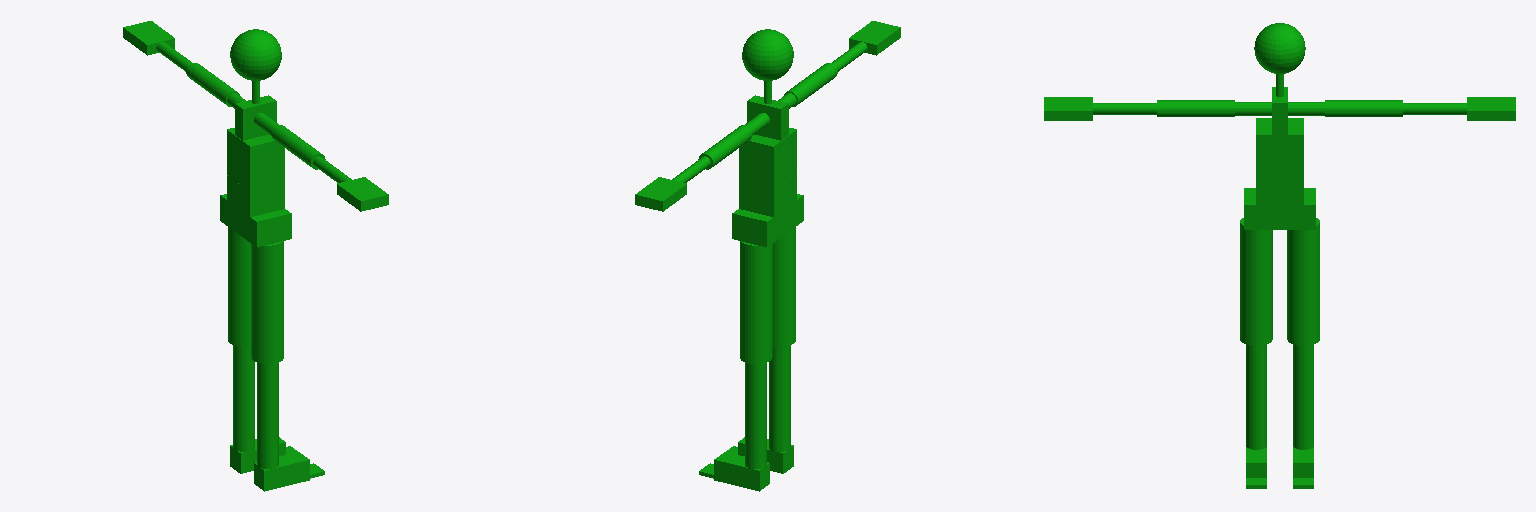
--- What the picture shows (computed from the rendered views, not written in the file) ---
The picture shows the robot from 3 angles, left to right: view 1: azimuth 30°, elevation 25°; view 2: azimuth 150°, elevation 25°; view 3: azimuth 270°, elevation 25°; orthographic projection.
Model humanoid with 51 links and 50 joints (50 fixed), rooted at Pelvis, posed all joints at 0.
Links seen in each view (by area): view 1: RightUpperLeg, LeftUpperLeg, RightLowerLeg, LeftLowerLeg, Head, Pelvis, T12, L5, RightFoot, L3, T8, RightHand (+4 smaller); view 2: LeftUpperLeg, RightUpperLeg, LeftLowerLeg, RightLowerLeg, Head, Pelvis, T12, L5, LeftFoot, L3, T8, LeftHand (+4 smaller); view 3: RightUpperLeg, LeftUpperLeg, Pelvis, RightLowerLeg, LeftLowerLeg, Head, T12, RightUpperArm, LeftUpperArm, L5, RightHand, LeftHand (+6 smaller).
Boxes of the visible links, left/top/right/bottom form: RightUpperLeg: left=251, top=241, right=283, bottom=363; LeftUpperLeg: left=228, top=227, right=250, bottom=346; RightLowerLeg: left=257, top=363, right=278, bottom=468; LeftLowerLeg: left=233, top=345, right=254, bottom=451; Head: left=230, top=29, right=281, bottom=80; Pelvis: left=220, top=194, right=291, bottom=247; T12: left=227, top=128, right=284, bottom=169; L5: left=227, top=175, right=284, bottom=216; RightFoot: left=254, top=452, right=309, bottom=491; L3: left=227, top=153, right=284, bottom=191; T8: left=235, top=95, right=276, bottom=140; RightHand: left=337, top=177, right=388, bottom=211; LeftUpperLeg: left=740, top=241, right=772, bottom=363; RightUpperLeg: left=773, top=227, right=795, bottom=346; LeftLowerLeg: left=745, top=363, right=766, bottom=468; RightLowerLeg: left=769, top=345, right=790, bottom=451; Head: left=742, top=29, right=793, bottom=80; Pelvis: left=732, top=194, right=803, bottom=247; T12: left=739, top=128, right=796, bottom=169; L5: left=739, top=175, right=796, bottom=216; LeftFoot: left=714, top=452, right=769, bottom=491; L3: left=739, top=153, right=796, bottom=191; T8: left=747, top=95, right=788, bottom=140; LeftHand: left=635, top=177, right=686, bottom=211; RightUpperLeg: left=1240, top=218, right=1272, bottom=345; LeftUpperLeg: left=1287, top=218, right=1319, bottom=345; Pelvis: left=1244, top=188, right=1315, bottom=229; RightLowerLeg: left=1246, top=345, right=1266, bottom=449; LeftLowerLeg: left=1293, top=345, right=1313, bottom=449; Head: left=1254, top=23, right=1305, bottom=73; T12: left=1256, top=118, right=1303, bottom=156; RightUpperArm: left=1157, top=100, right=1234, bottom=116; LeftUpperArm: left=1325, top=100, right=1402, bottom=116; L5: left=1256, top=180, right=1303, bottom=204; RightHand: left=1044, top=97, right=1092, bottom=120; LeftHand: left=1467, top=97, right=1515, bottom=120.
Size in the robot's own frame: 0.2938 by 1.63 by 1.69 metres.
Geometry: primitives only (box / cylinder / sphere), no mesh files.

The robot description file, URDF, robot "humanoid":
<robot name="humanoid">

<material name="color">
    <color rgba="0.08235294117647059 0.6901960784313725 0.10196078431372549 1.0" />
</material>

<!--To open this model with Gazebo replace the null masses, inertias and dimensions of the 'fake links f1 and f2'-->
    <!--LINKS-->
	<!--Link base (1)-->
	<link name="Pelvis">
        <inertial>
            <mass value="0.04976"/>
			<!--COM origin wrt pHipOrigin-->
            <origin xyz="0           0    0.049743" rpy="0 0 0" />
            <inertia ixx="0.029678" iyy="0.011854" izz="0.033653" ixy="0" ixz="0" iyz="0"/>
        </inertial>

        <visual>
			<!--box origin wrt pHipOrigin-->
            <origin xyz="0           0    0.049743" rpy="0 0 0" />
            <geometry>
                <box size="0.13815     0.24914    0.097469"/>
            </geometry>
            <material name="color"/>
        </visual>

        <collision>
			<!--box origin wrt pHipOrigin-->
            <origin xyz="0           0    0.049743" rpy="0 0 0" />
            <geometry>
                <box size="0.13815     0.24914    0.097469"/>
            </geometry>
        </collision>

    </link>
    <!--Chain from (2) to (7)-->
	<link name="L5_f1">
        <inertial>
            <mass value="0"/>
            <origin xyz="0 0 0" rpy="0 0 0" />
            <inertia ixx="0" iyy="0" izz="0" ixy="0" ixz="0" iyz="0"/>
        </inertial>
    </link>
	<link name="L5">
        <inertial>
            <mass value="0.063444"/>
			<!--COM origin wrt jL5S1-->
            <origin xyz="0           0    0.047552" rpy="0 0 0" />
            <inertia ixx="0.018868" iyy="0.014872" izz="0.024177" ixy="0" ixz="0" iyz="0"/>
        </inertial>

        <visual>
			<!--box origin origin wrt jL5S1-->
            <origin xyz="0           0    0.047552" rpy="0 0 0" />
            <geometry>
                <box size="0.13815     0.16323    0.095104"/>
            </geometry>
            <material name="color"/>
        </visual>

        <collision>
			<!--box origin origin wrt jL5S1-->
            <origin xyz="0           0    0.047552" rpy="0 0 0" />
            <geometry>
                <box size="0.13815     0.16323    0.095104"/>
            </geometry>
        </collision>
    </link>
	<link name="L3_f1">
        <inertial>
            <mass value="0"/>
            <origin xyz="0 0 0" rpy="0 0 0" />
            <inertia ixx="0" iyy="0" izz="0" ixy="0" ixz="0" iyz="0"/>
        </inertial>
    </link>
	<link name="L3">
        <inertial>
            <mass value="0.063444"/>
			<!--COM origin wrt jL4L3-->
            <origin xyz="0           0    0.042958" rpy="0 0 0" />
            <inertia ixx="0.017989" iyy="0.013993" izz="0.024177" ixy="0" ixz="0" iyz="0"/>
        </inertial>

        <visual>
			<!--box origin origin wrt jL4L3-->
            <origin xyz="0           0    0.042958" rpy="0 0 0" />
            <geometry>
                <box size="0.13815     0.16323    0.085916"/>
            </geometry>
            <material name="color"/>
        </visual>

        <collision>
			<!--box origin origin wrt jL4L3-->
            <origin xyz="0           0    0.042958" rpy="0 0 0" />
            <geometry>
                <box size="0.13815     0.16323    0.085916"/>
            </geometry>
        </collision>
    </link>
	<link name="T12_f1">
        <inertial>
            <mass value="0"/>
            <origin xyz="0 0 0" rpy="0 0 0" />
            <inertia ixx="0" iyy="0" izz="0" ixy="0" ixz="0" iyz="0"/>
        </inertial>
    </link>
	<link name="T12">
        <inertial>
            <mass value="0.063444"/>
			<!--COM origin wrt jL1T12-->
            <origin xyz="0           0    0.042958" rpy="0 0 0" />
            <inertia ixx="0.017989" iyy="0.013993" izz="0.024177" ixy="0" ixz="0" iyz="0"/>
        </inertial>

        <visual>
			<!--box origin origin wrt jL1T12-->
            <origin xyz="0           0    0.042958" rpy="0 0 0" />
            <geometry>
                <box size="0.13815     0.16323    0.085916"/>
            </geometry>
            <material name="color"/>
        </visual>

        <collision>
			<!--box origin origin wrt jL1T12-->
            <origin xyz="0           0    0.042958" rpy="0 0 0" />
            <geometry>
                <box size="0.13815     0.16323    0.085916"/>
            </geometry>
        </collision>
    </link>
	<link name="T8_f1">
        <inertial>
            <mass value="0"/>
            <origin xyz="0 0 0" rpy="0 0 0" />
            <inertia ixx="0" iyy="0" izz="0" ixy="0" ixz="0" iyz="0"/>
        </inertial>
    </link>
	<link name="T8_f2">
        <inertial>
            <mass value="0"/>
            <origin xyz="0 0 0" rpy="0 0 0" />
            <inertia ixx="0" iyy="0" izz="0" ixy="0" ixz="0" iyz="0"/>
        </inertial>
    </link>
	<link name="T8">
        <inertial>
            <mass value="0.02488"/>
			<!--COM origin wrt jT9T8-->
            <origin xyz="0           0    0.059874" rpy="0 0 0" />
            <inertia ixx="0.0035473" iyy="0.0067278" izz="0.0043289" ixy="0" ixz="0" iyz="0"/>
        </inertial>

        <visual>
			<!--box origin wrt jT9T8-->
            <origin xyz="0           0    0.059874" rpy="0 0 0" />
            <geometry>
                <box size="0.13457    0.052626     0.11975"/>
            </geometry>
            <material name="color"/>
        </visual>

        <collision>
			<!--box origin wrt jT9T8-->
            <origin xyz="0           0    0.059874" rpy="0 0 0" />
            <geometry>
                <box size="0.13457    0.052626     0.11975"/>
            </geometry>
        </collision>

    </link>
	<link name="Neck_f1">
        <inertial>
            <mass value="0"/>
            <origin xyz="0 0 0" rpy="0 0 0" />
            <inertia ixx="0" iyy="0" izz="0" ixy="0" ixz="0" iyz="0"/>
        </inertial>
    </link>
	<link name="Neck_f2">
        <inertial>
            <mass value="0"/>
            <origin xyz="0 0 0" rpy="0 0 0" />
            <inertia ixx="0" iyy="0" izz="0" ixy="0" ixz="0" iyz="0"/>
        </inertial>
    </link>
	<link name="Neck">
        <inertial>
            <mass value="0.007464"/>
			<!--COM origin wrt jT1C7-->
            <origin xyz="0           0    0.044626" rpy="0 0 0" />
            <inertia ixx="0.0006461" iyy="0.0006461" izz="0.00030124" ixy="0" ixz="0" iyz="0"/>
        </inertial>

        <visual>
			<!--box origin wrt jT1C7-->
            <origin xyz="0           0    0.044626" rpy="0 0 0" />
            <geometry>
		<cylinder length="0.089252" radius="0.014205"/>
            </geometry>
            <material name="color"/>
        </visual>

        <collision>
			<!--box origin wrt jT1C7-->
            <origin xyz="0           0    0.044626" rpy="0 0 0" />
            <geometry>
                <cylinder length="0.089252" radius="0.014205"/>
            </geometry>
        </collision>
    </link>
	<link name="Head_f1">
        <inertial>
            <mass value="0"/>
            <origin xyz="0 0 0" rpy="0 0 0" />
            <inertia ixx="0" iyy="0" izz="0" ixy="0" ixz="0" iyz="0"/>
        </inertial>
    </link>
	<link name="Head">
        <inertial>
            <mass value="0.022392"/>
			<!--COM origin wrt jC1Head-->
            <origin xyz="0           0    0.089005" rpy="0 0 0" />
            <inertia ixx="0.0070955" iyy="0.0070955" izz="0.0070955" ixy="0" ixz="0" iyz="0"/>
        </inertial>

        <visual>
			<!--boc origin wrt jC1Head-->
            <origin xyz="0           0    0.089005" rpy="0 0 0" />
            <geometry>
                <sphere radius="0.089005"/>
            </geometry>
            <material name="color"/>
        </visual>

        <collision>
			<!--box origin wrt jC1Head-->
            <origin xyz="0           0    0.089005" rpy="0 0 0" />
            <geometry>
                <sphere radius="0.089005"/>
            </geometry>
        </collision>

    </link>
	<!--Chain from (8) to (11)-->
	<link name="RightShoulder">
        <inertial>
            <mass value="0.019282"/>
			<!--COM origin wrt jRightC7Shoulder-->
            <origin xyz="0   -0.065233           0" rpy="0 0 0" />
            <inertia ixx="0.0030029" iyy="0.00053578" izz="0.0030029" ixy="0" ixz="0" iyz="0"/>
        </inertial>

        <visual>
			<!--box origin wrt jRightC7Shoulder. RPY rotated of pi/2.-->
            <origin xyz="0   -0.065233           0" rpy="1.5708 0 0" />
            <geometry>
                <cylinder length="0.13047" radius="0.023574"/>
            </geometry>
            <material name="color"/>
        </visual>

        <collision>
			<!--box origin wrt jRightC7Shoulder. RPY rotated of pi/2.-->
            <origin xyz="0   -0.065233           0" rpy="1.5708 0 0" />
            <geometry>
                <cylinder length="0.13047" radius="0.023574"/>
            </geometry>
        </collision>

    </link>
	<link name="RightUpperArm_f1">
        <inertial>
            <mass value="0"/>
            <origin xyz="0 0 0" rpy="0 0 0" />
            <inertia ixx="0" iyy="0" izz="0" ixy="0" ixz="0" iyz="0"/>
        </inertial>
    </link>
	<link name="RightUpperArm_f2">
        <inertial>
            <mass value="0"/>
            <origin xyz="0 0 0" rpy="0 0 0" />
            <inertia ixx="0" iyy="0" izz="0" ixy="0" ixz="0" iyz="0"/>
        </inertial>
    </link>
    <link name="RightUpperArm">
        <inertial>
            <mass value="0.01866"/>
			<!--COM origin wrt jRightShoulder-->
            <origin xyz="0    -0.13497           0" rpy="0 0 0" />
            <inertia ixx="0.011736" iyy="0.00080917" izz="0.011736" ixy="0" ixz="0" iyz="0"/>
        </inertial>

        <visual>
			<!--box origin wrt jRightShoulder. RPY rotated of pi/2.-->
            <origin xyz="0    -0.13497           0" rpy="1.5708 0 0" />
            <geometry>
                <cylinder length="0.26994" radius="0.029449"/>
            </geometry>
            <material name="color"/>
        </visual>

        <collision>
			<!--box origin wrt jRightShoulder. RPY rotated of pi/2.-->
            <origin xyz="0    -0.13497           0" rpy="1.5708 0 0" />
            <geometry>
                <cylinder length="0.26994" radius="0.029449"/>
            </geometry>
        </collision>

    </link>
	<link name="RightForeArm_f1">
        <inertial>
            <mass value="0"/>
            <origin xyz="0 0 0" rpy="0 0 0" />
            <inertia ixx="0" iyy="0" izz="0" ixy="0" ixz="0" iyz="0"/>
        </inertial>
    </link>
	<link name="RightForeArm">
        <inertial>
            <mass value="0.01244"/>
			<!--COM origin wrt jRightElbow-->
            <origin xyz="0    -0.11124           0" rpy="0 0 0" />
            <inertia ixx="0.0052508" iyy="0.00023975" izz="0.0052508" ixy="0" ixz="0" iyz="0"/>
        </inertial>

        <visual>
			<!--box origin wrt jRightElbow. RPY rotated of pi/2.-->
            <origin xyz="0    -0.11124           0" rpy="1.5708 0 0" />
            <geometry>
                <cylinder length="0.22247" radius="0.019633"/>
            </geometry>
            <material name="color"/>
        </visual>

        <collision>
			<!--box origin wrt jRightElbow. RPY rotated of pi/2.-->
            <origin xyz="0    -0.11124           0" rpy="1.5708 0 0" />
            <geometry>
                <cylinder length="0.22247" radius="0.019633"/>
            </geometry>
        </collision>

    </link>
	<link name="RightHand_f1">
        <inertial>
            <mass value="0"/>
            <origin xyz="0 0 0" rpy="0 0 0" />
            <inertia ixx="0" iyy="0" izz="0" ixy="0" ixz="0" iyz="0"/>
        </inertial>
    </link>
	<link name="RightHand">
        <inertial>
            <mass value="0.003732"/>
			<!--COM origin wrt jRightWrist-->
            <origin xyz="0   -0.083588           0" rpy="0 0 0" />
            <inertia ixx="0.00091713" iyy="0.00043425" izz="0.0012555" ixy="0" ixz="0" iyz="0"/>
        </inertial>

        <visual>
			<!--box origin wrt jRightWrist-->
            <origin xyz="0   -0.083588           0" rpy="0 0 0" />
            <geometry>
                <box size="0.11145     0.16718    0.039266"/>
            </geometry>
            <material name="color"/>
        </visual>

        <collision>
			<!--box origin wrt jRightWrist-->
            <origin xyz="0   -0.083588           0" rpy="0 0 0" />
            <geometry>
                <box size="0.11145     0.16718    0.039266"/>
            </geometry>
        </collision>

    </link>
    <link name="RightHandCOM">
        <inertial>
            <mass value="0.0000001"/>
            <origin xyz="0 0 0" rpy="0 0 0" />
            <inertia ixx="0" iyy="0" izz="0" ixy="0" ixz="0" iyz="0"/>
        </inertial>
        <visual>
            <!--box origin wrt jRightWrist-->
            <origin xyz="0   0           0" rpy="0 0 0" />
            <geometry>
                <box size="0     0    0"/>
            </geometry>
            <material name="color"/>
        </visual>
    </link>
	<!--Chain from (12) to (15)-->
	<link name="LeftShoulder">
        <inertial>
            <mass value="0.019282"/>
			<!--COM origin wrt jLeftC7Shoulder-->
            <origin xyz="0    0.065233           0" rpy="0 0 0" />
            <inertia ixx="0.0030029" iyy="0.00053578" izz="0.0030029" ixy="0" ixz="0" iyz="0"/>
        </inertial>

        <visual>
			<!--box origin wrt jLeftC7Shoulder. RPY rotated of pi/2.-->
            <origin xyz="0    0.065233           0" rpy="1.5708 0 0" />
            <geometry>
                <cylinder length="0.13047" radius="0.023574"/>
            </geometry>
            <material name="color"/>
        </visual>

        <collision>
			<!--box origin wrt jLeftC7Shoulder. RPY rotated of pi/2.-->
            <origin xyz="0    0.065233           0" rpy="1.5708 0 0" />
            <geometry>
                <cylinder length="0.13047" radius="0.023574"/>
            </geometry>
        </collision>

    </link>
	<link name="LeftUpperArm_f1">
        <inertial>
            <mass value="0"/>
            <origin xyz="0 0 0" rpy="0 0 0" />
            <inertia ixx="0" iyy="0" izz="0" ixy="0" ixz="0" iyz="0"/>
        </inertial>
    </link>
	<link name="LeftUpperArm_f2">
        <inertial>
            <mass value="0"/>
            <origin xyz="0 0 0" rpy="0 0 0" />
            <inertia ixx="0" iyy="0" izz="0" ixy="0" ixz="0" iyz="0"/>
        </inertial>
    </link>
	<link name="LeftUpperArm">
        <inertial>
            <mass value="0.01866"/>
			<!--COM origin wrt jLeftShoulder-->
            <origin xyz="0     0.13497           0" rpy="0 0 0" />
            <inertia ixx="0.011736" iyy="0.00080917" izz="0.011736" ixy="0" ixz="0" iyz="0"/>
        </inertial>

        <visual>
			<!--box origin wrt jLeftShoulder. RPY rotated of pi/2.-->
            <origin xyz="0     0.13497           0" rpy="1.5708 0 0" />
            <geometry>
                <cylinder length="0.26994" radius="0.029449"/>
            </geometry>
            <material name="color"/>
        </visual>

        <collision>
			<!--box origin wrt jLeftShoulder. RPY rotated of pi/2.-->
            <origin xyz="0     0.13497           0" rpy="1.5708 0 0" />
            <geometry>
                <cylinder length="0.26994" radius="0.029449"/>
            </geometry>
        </collision>

    </link>
	<link name="LeftForeArm_f1">
        <inertial>
            <mass value="0"/>
            <origin xyz="0 0 0" rpy="0 0 0" />
            <inertia ixx="0" iyy="0" izz="0" ixy="0" ixz="0" iyz="0"/>
        </inertial>
    </link>
	<link name="LeftForeArm">
        <inertial>
            <mass value="0.01244"/>
			<!--COM origin wrt jLeftElbow-->
            <origin xyz="0     0.11124           0" rpy="0 0 0" />
            <inertia ixx="0.0052508" iyy="0.00023975" izz="0.0052508" ixy="0" ixz="0" iyz="0"/>
        </inertial>

        <visual>
			<!--box origin wrt jLeftElbow. RPY rotated of pi/2.-->
            <origin xyz="0     0.11124           0" rpy="1.5708 0 0" />
            <geometry>
                <cylinder length="0.22247" radius="0.019633"/>
            </geometry>
            <material name="color"/>
        </visual>

        <collision>
			<!--box origin wrt jLeftElbow. RPY rotated of pi/2.-->
            <origin xyz="0     0.11124           0" rpy="1.5708 0 0" />
            <geometry>
                <cylinder length="0.22247" radius="0.019633"/>
            </geometry>
        </collision>

    </link>
	<link name="LeftHand_f1">
        <inertial>
            <mass value="0"/>
            <origin xyz="0 0 0" rpy="0 0 0" />
            <inertia ixx="0" iyy="0" izz="0" ixy="0" ixz="0" iyz="0"/>
        </inertial>
    </link>
	<link name="LeftHand">
        <inertial>
            <mass value="0.003732"/>
			<!--COM origin wrt jLeftWrist-->
            <origin xyz="0    0.083588           0" rpy="0 0 0" />
            <inertia ixx="0.00091713" iyy="0.00043425" izz="0.0012555" ixy="0" ixz="0" iyz="0"/>
        </inertial>

        <visual>
			<!--COM origin wrt jLeftWrist-->
            <origin xyz="0    0.083588           0" rpy="0 0 0" />
            <geometry>
                <box size="0.11145     0.16718    0.039266"/>
            </geometry>
            <material name="color"/>
        </visual>

        <collision>
			<!--COM origin wrt jLeftWrist-->
            <origin xyz="0    0.083588           0" rpy="0 0 0" />
            <geometry>
                <box size="0.11145     0.16718    0.039266"/>
            </geometry>
        </collision>

    </link>
    <link name="LeftHandCOM">
        <inertial>
            <mass value="0.0000001"/>
            <origin xyz="0 0 0" rpy="0 0 0" />
            <inertia ixx="0" iyy="0" izz="0" ixy="0" ixz="0" iyz="0"/>
        </inertial>
        <visual>
            <!--COM origin wrt jLeftWrist-->
            <origin xyz="0    0           0" rpy="0 0 0" />
            <geometry>
                <box size="0     0    0"/>
            </geometry>
            <material name="color"/>
        </visual>
    </link>
	<!--Chain from (16) to (19)-->
	<link name="RightUpperLeg_f1">
        <inertial>
            <mass value="0"/>
            <origin xyz="0 0 0" rpy="0 0 0" />
            <inertia ixx="0" iyy="0" izz="0" ixy="0" ixz="0" iyz="0"/>
        </inertial>
    </link>
	<link name="RightUpperLeg_f2">
        <inertial>
            <mass value="0"/>
            <origin xyz="0 0 0" rpy="0 0 0" />
            <inertia ixx="0" iyy="0" izz="0" ixy="0" ixz="0" iyz="0"/>
        </inertial>
    </link>
    <link name="RightUpperLeg">
        <inertial>
            <mass value="0.07775"/>
			<!--COM origin wrt jRightHip-->
            <origin xyz="0           0    -0.22449" rpy="0 0 0" />
            <inertia ixx="0.13681" iyy="0.13681" izz="0.01241" ixy="0" ixz="0" iyz="0"/>
        </inertial>

        <visual>
			<!--box origin wrt jRightHip-->
            <origin xyz="0           0    -0.22449" rpy="0 0 0" />
            <geometry>
                <cylinder length="0.44898" radius="0.0565"/>
            </geometry>
            <material name="color"/>
        </visual>

        <collision>
			<!--box origin wrt jRightHip-->
            <origin xyz="0           0    -0.22449" rpy="0 0 0" />
            <geometry>
                <cylinder length="0.44898" radius="0.0565"/>
            </geometry>
        </collision>

    </link>
	<link name="RightLowerLeg_f1">
        <inertial>
            <mass value="0"/>
            <origin xyz="0 0 0" rpy="0 0 0" />
            <inertia ixx="0" iyy="0" izz="0" ixy="0" ixz="0" iyz="0"/>
        </inertial>
    </link>
    <link name="RightLowerLeg">
        <inertial>
            <mass value="0.022703"/>
			<!--COM origin wrt jRightKnee-->
            <origin xyz="0           0    -0.20304" rpy="0 0 0" />
            <inertia ixx="0.031992" iyy="0.031992" izz="0.0015867" ixy="0" ixz="0" iyz="0"/>
        </inertial>

        <visual>
			<!--box origin wrt jRightKnee-->
            <origin xyz="0           0    -0.20304" rpy="0 0 0" />
            <geometry>
                <cylinder length="0.40608" radius="0.037388"/>
            </geometry>
            <material name="color"/>
        </visual>

        <collision>
			<!--box origin wrt jRightKnee-->
            <origin xyz="0           0    -0.20304" rpy="0 0 0" />
            <geometry>
                <cylinder length="0.40608" radius="0.037388"/>
            </geometry>
        </collision>

    </link>
	<link name="RightFoot_f1">
        <inertial>
            <mass value="0"/>
            <origin xyz="0 0 0" rpy="0 0 0" />
            <inertia ixx="0" iyy="0" izz="0" ixy="0" ixz="0" iyz="0"/>
        </inertial>
    </link>
	<link name="RightFoot_f2">
        <inertial>
            <mass value="0"/>
            <origin xyz="0 0 0" rpy="0 0 0" />
            <inertia ixx="0" iyy="0" izz="0" ixy="0" ixz="0" iyz="0"/>
        </inertial>
    </link>
    <link name="RightFoot">
        <inertial>
            <mass value="0.008086"/>
			<!--COM origin wrt jRightAnkle-->
            <origin xyz="0.054652           0   -0.039254" rpy="0 0 0" />
            <inertia ixx="0.00079209" iyy="0.0025944" izz="0.0025558" ixy="0" ixz="0" iyz="0"/>
        </inertial>

        <visual>
			<!--box origin wrt jRightAnkle-->
	    	<origin xyz="0.054652           0   -0.039254" rpy="0 0 0" />
            <geometry>
                <box size="0.17983    0.074775    0.078509"/>
            </geometry>
            <material name="color"/>
        </visual>

        <collision>
			<!--box origin wrt jRightAnkle-->
		    <origin xyz="0.054652           0   -0.039254" rpy="0 0 0" />
	            <geometry>
	                <box size="0.17983    0.074775    0.078509"/>
	            </geometry>
        </collision>

    </link>
    <link name="RightToe">
        <inertial>
            <mass value="0.000933"/>
			<!--COM origin wrt jRightBallFoot-->
            <origin xyz="0.030086           0           0" rpy="0 0 0" />
            <inertia ixx="4.5038e-05" iyy="2.9717e-05" izz="7.1624e-05" ixy="0" ixz="0" iyz="0"/>
        </inertial>

        <visual>
			<!--box origin wrt jRightBallFoot-->
            <origin xyz="0.030086           0           0" rpy="0 0 0" />
            <geometry>
                <box size="0.060173    0.074775    0.014191"/>
            </geometry>
            <material name="color"/>
        </visual>

        <collision>
			<!--box origin wrt jRightBallFoot-->
            <origin xyz="0.030086           0           0" rpy="0 0 0" />
            <geometry>
                <box size="0.060173    0.074775    0.014191"/>
            </geometry>
        </collision>
    </link>
	<!--Chain from (20) to (23)-->
	<link name="LeftUpperLeg_f1">
        <inertial>
            <mass value="0"/>
            <origin xyz="0 0 0" rpy="0 0 0" />
            <inertia ixx="0" iyy="0" izz="0" ixy="0" ixz="0" iyz="0"/>
        </inertial>
    </link>
	<link name="LeftUpperLeg_f2">
        <inertial>
            <mass value="0"/>
            <origin xyz="0 0 0" rpy="0 0 0" />
            <inertia ixx="0" iyy="0" izz="0" ixy="0" ixz="0" iyz="0"/>
        </inertial>
    </link>
    <link name="LeftUpperLeg">
        <inertial>
            <mass value="0.07775"/>
			<!--COM origin wrt jLeftHip-->
            <origin xyz="0           0    -0.22449" rpy="0 0 0" />
            <inertia ixx="0.13681" iyy="0.13681" izz="0.01241" ixy="0" ixz="0" iyz="0"/>
        </inertial>

        <visual>
			<!--box origin wrt jLeftHip-->
            <origin xyz="0           0    -0.22449" rpy="0 0 0" />
            <geometry>
                <cylinder length="0.44898" radius="0.0565"/>
            </geometry>
            <material name="color"/>
        </visual>

        <collision>
			<!--box origin wrt jLeftHip-->
            <origin xyz="0           0    -0.22449" rpy="0 0 0" />
            <geometry>
                <cylinder length="0.44898" radius="0.0565"/>
            </geometry>
        </collision>

    </link>
	<link name="LeftLowerLeg_f1">
        <inertial>
            <mass value="0"/>
            <origin xyz="0 0 0" rpy="0 0 0" />
            <inertia ixx="0" iyy="0" izz="0" ixy="0" ixz="0" iyz="0"/>
        </inertial>
    </link>
	<link name="LeftLowerLeg">
        <inertial>
            <mass value="0.022703"/>
			<!--COM origin wrt jLeftKnee-->
            <origin xyz="0           0    -0.20304" rpy="0 0 0" />
            <inertia ixx="0.031992" iyy="0.031992" izz="0.0015867" ixy="0" ixz="0" iyz="0"/>
        </inertial>

        <visual>
			<!--box origin wrt jLeftKnee-->
            <origin xyz="0           0    -0.20304" rpy="0 0 0" />
            <geometry>
		<cylinder length="0.40608" radius="0.037388"/>
            </geometry>
            <material name="color"/>
        </visual>

        <collision>
			<!--box origin wrt jLeftKnee-->
            <origin xyz="0           0    -0.20304" rpy="0 0 0" />
            <geometry>
		<cylinder length="0.40608" radius="0.037388"/>
            </geometry>
        </collision>

    </link>
	<link name="LeftFoot_f1">
        <inertial>
            <mass value="0"/>
            <origin xyz="0 0 0" rpy="0 0 0" />
            <inertia ixx="0" iyy="0" izz="0" ixy="0" ixz="0" iyz="0"/>
        </inertial>
    </link>
	<link name="LeftFoot_f2">
        <inertial>
            <mass value="0"/>
            <origin xyz="0 0 0" rpy="0 0 0" />
            <inertia ixx="0" iyy="0" izz="0" ixy="0" ixz="0" iyz="0"/>
        </inertial>
    </link>
    <link name="LeftFoot">
        <inertial>
            <mass value="0.008086"/>
			<!--COM origin wrt jLeftAnkle-->
            <origin xyz="0.054652           0   -0.039254" rpy="0 0 0" />
            <inertia ixx="0.00079209" iyy="0.0025944" izz="0.0025558" ixy="0" ixz="0" iyz="0"/>
        </inertial>

        <visual>
			<!--box origin wrt jLeftAnkle-->
	   	 	<origin xyz="0.054652           0   -0.039254" rpy="0 0 0" />
            <geometry>
                <box size="0.17983    0.074775    0.078509"/>
            </geometry>
            <material name="color"/>
        </visual>

        <collision>
			<!--box origin wrt jLeftAnkle-->
		    <origin xyz="0.054652           0   -0.039254" rpy="0 0 0" />
	            <geometry>
	                <box size="0.17983    0.074775    0.078509"/>
	            </geometry>
        </collision>

    </link>
	<link name="LeftToe">
        <inertial>
            <mass value="0.000933"/>
			<!--COM origin wrt jLeftBallFoot-->
            <origin xyz="0.030086           0           0" rpy="0 0 0" />
            <inertia ixx="4.5038e-05" iyy="2.9717e-05" izz="7.1624e-05" ixy="0" ixz="0" iyz="0"/>
        </inertial>

        <visual>
			<!--box origin wrt jLeftBallFoot-->
            <origin xyz="0.030086           0           0" rpy="0 0 0" />
            <geometry>
                <box size="0.060173    0.074775    0.014191"/>
            </geometry>
            <material name="color"/>
        </visual>

        <collision>
			<!--box origin wrt jLeftBallFoot-->
            <origin xyz="0.030086           0           0" rpy="0 0 0" />
            <geometry>
                <box size="0.060173    0.074775    0.014191"/>
            </geometry>
        </collision>
    </link>


	<!--JOINTS-->
	<!--Chain from (2) to (7)-->
	<joint name="jL5S1_rotx" type="fixed">
        <origin xyz="-0.000206           0    0.098478" rpy="0 0 0"/>
        <parent link="Pelvis"/>
        <child link="L5_f1"/>
        <dynamics damping="0.1" friction="0.0"/>
        <limit effort="30" velocity="1.0" lower="-0.610865" upper="0.610865" />
        <axis xyz="1 0 0" />
    </joint>
	<joint name="jL5S1_roty" type="fixed">
        <origin xyz="0 0 0" rpy="0 0 0"/>
        <parent link="L5_f1"/>
        <child link="L5"/>
        <dynamics damping="0.1" friction="0.0"/>
        <limit effort="30" velocity="1.0" lower="-0.523599" upper="1.309" />
        <axis xyz="0 1 0" />
    </joint>
	<joint name="jL4L3_rotx" type="fixed">
        <origin xyz="0.000374           0    0.095104" rpy="0 0 0"/>
        <parent link="L5"/>
        <child link="L3_f1"/>
        <dynamics damping="0.1" friction="0.0"/>
        <limit effort="30" velocity="1.0" lower="-0.610865" upper="0.610865" />
        <axis xyz="1 0 0" />
    </joint>
	<joint name="jL4L3_roty" type="fixed">
        <origin xyz="0 0 0" rpy="0 0 0"/>
        <parent link="L3_f1"/>
        <child link="L3"/>
        <dynamics damping="0.1" friction="0.0"/>
        <limit effort="30" velocity="1.0" lower="-0.523599" upper="1.309" />
        <axis xyz="0 1 0" />
    </joint>
	<joint name="jL1T12_rotx" type="fixed">
        <origin xyz="0           0    0.085916" rpy="0 0 0"/>
        <parent link="L3"/>
        <child link="T12_f1"/>
        <dynamics damping="0.1" friction="0.0"/>
        <limit effort="30" velocity="1.0" lower="-0.610865" upper="0.610865" />
        <axis xyz="1 0 0" />
    </joint>
	<joint name="jL1T12_roty" type="fixed">
        <origin xyz="0 0 0" rpy="0 0 0"/>
        <parent link="T12_f1"/>
        <child link="T12"/>
        <dynamics damping="0.1" friction="0.0"/>
        <limit effort="30" velocity="1.0" lower="-0.523599" upper="1.309" />
        <axis xyz="0 1 0" />
    </joint>
	<joint name="jT9T8_rotx" type="fixed">
        <origin xyz="0           0    0.085916" rpy="0 0 0"/>
        <parent link="T12"/>
        <child link="T8_f1"/>
        <dynamics damping="0.1" friction="0.0"/>
        <limit effort="30" velocity="1.0" lower="-0.349066" upper="0.349066" />
        <axis xyz="1 0 0" />
    </joint>
	<joint name="jT9T8_roty" type="fixed">
        <origin xyz="0 0 0" rpy="0 0 0"/>
        <parent link="T8_f1"/>
        <child link="T8_f2"/>
        <dynamics damping="0.1" friction="0.0"/>
        <limit effort="30" velocity="1.0" lower="-0.261799" upper="0.698132" />
        <axis xyz="0 1 0" />
    </joint>
    <joint name="jT9T8_rotz" type="fixed">
        <origin xyz="0 0 0" rpy="0 0 0"/>
        <parent link="T8_f2"/>
        <child link="T8"/>
        <dynamics damping="0.1" friction="0.0"/>
        <limit effort="30" velocity="1.0" lower="-0.610865" upper="0.610865" />
        <axis xyz="0 0 1" />
    </joint>
	<joint name="jT1C7_rotx" type="fixed">
        <origin xyz="0           0     0.11975" rpy="0 0 0"/>
        <parent link="T8"/>
        <child link="Neck_f1"/>
        <dynamics damping="0.1" friction="0.0"/>
        <limit effort="30" velocity="1.0" lower="-0.610865" upper="0.610865" />
        <axis xyz="1 0 0" />
    </joint>
	<joint name="jT1C7_roty" type="fixed">
        <origin xyz="0 0 0" rpy="0 0 0"/>
        <parent link="Neck_f1"/>
        <child link="Neck_f2"/>
        <dynamics damping="0.1" friction="0.0"/>
        <limit effort="30" velocity="1.0" lower="-0.959931" upper="1.5708" />
        <axis xyz="0 1 0" />
    </joint>
    <joint name="jT1C7_rotz" type="fixed">
        <origin xyz="0 0 0" rpy="0 0 0"/>
        <parent link="Neck_f2"/>
        <child link="Neck"/>
        <dynamics damping="0.1" friction="0.0"/>
        <limit effort="30" velocity="1.0" lower="-1.22173" upper="1.22173" />
        <axis xyz="0 0 1" />
    </joint>
	<joint name="jC1Head_rotx" type="fixed">
        <origin xyz="0.000152           0    0.089252" rpy="0 0 0"/>
        <parent link="Neck"/>
        <child link="Head_f1"/>
        <dynamics damping="0.1" friction="0.0"/>
        <limit effort="30" velocity="1.0" lower="-0.610865" upper="0.610865" />
        <axis xyz="1 0 0" />
    </joint>
	<joint name="jC1Head_roty" type="fixed">
        <origin xyz="0 0 0" rpy="0 0 0"/>
        <parent link="Head_f1"/>
        <child link="Head"/>
        <dynamics damping="0.1" friction="0.0"/>
        <limit effort="30" velocity="1.0" lower="-0.436332" upper="0.174533" />
        <axis xyz="0 1 0" />
    </joint>
	<!--Chain from (8) to (11)-->
	<joint name="jRightC7Shoulder_rotx" type="fixed">
        <origin xyz="0   -0.026313    0.067052" rpy="0 0 0"/>
        <parent link="T8"/>
        <child link="RightShoulder"/>
        <dynamics damping="0.1" friction="0.0"/>
        <limit effort="30" velocity="1.0" lower="-0.785398" upper="0.0872665" />
        <axis xyz="1 0 0" />
    </joint>
	<joint name="jRightShoulder_rotx" type="fixed">
        <origin xyz="0    -0.13047           0" rpy="0 0 0"/>
        <parent link="RightShoulder"/>
        <child link="RightUpperArm_f1"/>
        <dynamics damping="0.1" friction="0.0"/>
        <limit effort="30" velocity="1.0" lower="-2.35619" upper="1.5708" />
        <axis xyz="1 0 0" />
    </joint>
	<joint name="jRightShoulder_roty" type="fixed">
        <origin xyz="0 0 0" rpy="0 0 0"/>
        <parent link="RightUpperArm_f1"/>
        <child link="RightUpperArm_f2"/>
        <dynamics damping="0.1" friction="0.0"/>
        <limit effort="30" velocity="1.0" lower="-1.5708" upper="1.5708" />
        <axis xyz="0 1 0" />
    </joint>
    <joint name="jRightShoulder_rotz" type="fixed">
        <origin xyz="0 0 0" rpy="0 0 0"/>
        <parent link="RightUpperArm_f2"/>
        <child link="RightUpperArm"/>
        <dynamics damping="0.1" friction="0.0"/>
        <limit effort="30" velocity="1.0" lower="-0.785398" upper="3.14159" />
        <axis xyz="0 0 1" />
    </joint>
	<joint name="jRightElbow_roty" type="fixed">
        <origin xyz="0    -0.26994           0" rpy="0 0 0"/>
        <parent link="RightUpperArm"/>
        <child link="RightForeArm_f1"/>
        <dynamics damping="0.1" friction="0.0"/>
        <limit effort="30" velocity="1.0" lower="-1.5708" upper="1.48353" />
        <axis xyz="0 1 0" />
    </joint>
	<joint name="jRightElbow_rotz" type="fixed">
        <origin xyz="0 0 0" rpy="0 0 0"/>
        <parent link="RightForeArm_f1"/>
        <child link="RightForeArm"/>
        <dynamics damping="0.1" friction="0.0"/>
        <limit effort="30" velocity="1.0" lower="0" upper="2.53073" />
        <axis xyz="0 0 1" />
    </joint>
	<joint name="jRightWrist_rotx" type="fixed">
        <origin xyz="7.7e-05    -0.22247           0" rpy="0 0 0"/>
        <parent link="RightForeArm"/>
        <child link="RightHand_f1"/>
        <dynamics damping="0.1" friction="0.0"/>
        <limit effort="30" velocity="1.0" lower="-0.872665" upper="1.0472" />
        <axis xyz="1 0 0" />
    </joint>
	<joint name="jRightWrist_rotz" type="fixed">
        <origin xyz="0 0 0" rpy="0 0 0"/>
        <parent link="RightHand_f1"/>
        <child link="RightHand"/>
        <dynamics damping="0.1" friction="0.0"/>
        <limit effort="30" velocity="1.0" lower="-0.523599" upper="0.349066" />
        <axis xyz="0 0 1" />
    </joint>
    <joint name="jRightHandCOM" type="fixed">
        <origin xyz="0 -0.096206 0" rpy="0 0 0"/>
        <parent link="RightHand"/>
        <child link="RightHandCOM"/>
        <axis xyz="0 0 0" />
    </joint>
	<!--Chain from (12) to (15)-->
	<joint name="jLeftC7Shoulder_rotx" type="fixed">
        <origin xyz="0    0.026313    0.067052" rpy="0 0 0"/>
        <parent link="T8"/>
        <child link="LeftShoulder"/>
        <dynamics damping="0.1" friction="0.0"/>
        <limit effort="30" velocity="1.0" lower="-0.0872665" upper="0.785398" />
        <axis xyz="1 0 0" />
    </joint>
	<joint name="jLeftShoulder_rotx" type="fixed">
        <origin xyz="0     0.13047           0" rpy="0 0 0"/>
        <parent link="LeftShoulder"/>
        <child link="LeftUpperArm_f1"/>
        <dynamics damping="0.1" friction="0.0"/>
        <limit effort="30" velocity="1.0" lower="-1.5708" upper="2.35619" />
        <axis xyz="1 0 0" />
    </joint>
	<joint name="jLeftShoulder_roty" type="fixed">
        <origin xyz="0 0 0" rpy="0 0 0"/>
        <parent link="LeftUpperArm_f1"/>
        <child link="LeftUpperArm_f2"/>
        <dynamics damping="0.1" friction="0.0"/>
        <limit effort="30" velocity="1.0" lower="-1.5708" upper="1.5708" />
        <axis xyz="0 1 0" />
    </joint>
    <joint name="jLeftShoulder_rotz" type="fixed">
        <origin xyz="0 0 0" rpy="0 0 0"/>
        <parent link="LeftUpperArm_f2"/>
        <child link="LeftUpperArm"/>
        <dynamics damping="0.1" friction="0.0"/>
        <limit effort="30" velocity="1.0" lower="-3.14159" upper="0.785398" />
        <axis xyz="0 0 1" />
    </joint>
    <joint name="jLeftElbow_roty" type="fixed">
        <origin xyz="0     0.26994           0" rpy="0 0 0"/>
        <parent link="LeftUpperArm"/>
        <child link="LeftForeArm_f1"/>
        <dynamics damping="0.1" friction="0.0"/>
        <limit effort="30" velocity="1.0" lower="-1.5708" upper="1.48353" />
        <axis xyz="0 1 0" />
    </joint>
    <joint name="jLeftElbow_rotz" type="fixed">
        <origin xyz="0 0 0" rpy="0 0 0"/>
        <parent link="LeftForeArm_f1"/>
        <child link="LeftForeArm"/>
        <dynamics damping="0.1" friction="0.0"/>
        <limit effort="30" velocity="1.0" lower="-2.53073" upper="0" />
        <axis xyz="0 0 1" />
    </joint>
	<joint name="jLeftWrist_rotx" type="fixed">
        <origin xyz="7.7e-05     0.22247           0" rpy="0 0 0"/>
        <parent link="LeftForeArm"/>
        <child link="LeftHand_f1"/>
        <dynamics damping="0.1" friction="0.0"/>
        <limit effort="30" velocity="1.0" lower="-1.0472" upper="0.872665" />
        <axis xyz="1 0 0" />
    </joint>
	<joint name="jLeftWrist_rotz" type="fixed">
        <origin xyz="0 0 0" rpy="0 0 0"/>
        <parent link="LeftHand_f1"/>
        <child link="LeftHand"/>
        <dynamics damping="0.1" friction="0.0"/>
        <limit effort="30" velocity="1.0" lower="-0.349066" upper="0.523599" />
        <axis xyz="0 0 1" />
    </joint>
    <joint name="jLeftHandCOM" type="fixed">
        <origin xyz="0 0.096206 0" rpy="0 0 0"/>
        <parent link="LeftHand"/>
        <child link="LeftHandCOM"/>
        <axis xyz="0 0 0" />
    </joint>
	<!--Chain from (16) to (19)-->
	<joint name="jRightHip_rotx" type="fixed">
        <origin xyz="0.000103   -0.081614    0.001009" rpy="0 0 0"/>
        <parent link="Pelvis"/>
        <child link="RightUpperLeg_f1"/>
        <dynamics damping="0.1" friction="0.0"/>
        <limit effort="30" velocity="1.0" lower="-0.785398" upper="0.523599" />
        <axis xyz="1 0 0" />
    </joint>
	<joint name="jRightHip_roty" type="fixed">
        <origin xyz="0 0 0" rpy="0 0 0"/>
        <parent link="RightUpperLeg_f1"/>
        <child link="RightUpperLeg_f2"/>
        <dynamics damping="0.1" friction="0.0"/>
        <limit effort="30" velocity="1.0" lower="-2.0944" upper="0.261799" />
        <axis xyz="0 1 0" />
    </joint>
    <joint name="jRightHip_rotz" type="fixed">
        <origin xyz="0 0 0" rpy="0 0 0"/>
        <parent link="RightUpperLeg_f2"/>
        <child link="RightUpperLeg"/>
        <dynamics damping="0.1" friction="0.0"/>
        <limit effort="30" velocity="1.0" lower="-0.785398" upper="0.785398" />
        <axis xyz="0 0 1" />
    </joint>
	<joint name="jRightKnee_roty" type="fixed">
        <origin xyz="3.6e-05           0    -0.44898" rpy="0 0 0"/>
        <parent link="RightUpperLeg"/>
        <child link="RightLowerLeg_f1"/>
        <dynamics damping="0.1" friction="0.0"/>
        <limit effort="30" velocity="1.0" lower="0" upper="2.35619" />
        <axis xyz="0 1 0" />
    </joint>
	<joint name="jRightKnee_rotz" type="fixed">
        <origin xyz="0 0 0" rpy="0 0 0"/>
        <parent link="RightLowerLeg_f1"/>
        <child link="RightLowerLeg"/>
        <dynamics damping="0.1" friction="0.0"/>
        <limit effort="30" velocity="1.0" lower="-0.698132" upper="0.523599" />
        <axis xyz="0 0 1" />
    </joint>
	<joint name="jRightAnkle_rotx" type="fixed">
        <origin xyz="0.000205           0    -0.40608" rpy="0 0 0"/>
        <parent link="RightLowerLeg"/>
        <child link="RightFoot_f1"/>
        <dynamics damping="0.1" friction="0.0"/>
        <limit effort="30" velocity="1.0" lower="-0.610865" upper="0.785398" />
        <axis xyz="1 0 0" />
    </joint>
	<joint name="jRightAnkle_roty" type="fixed">
        <origin xyz="0 0 0" rpy="0 0 0"/>
        <parent link="RightFoot_f1"/>
        <child link="RightFoot_f2"/>
        <dynamics damping="0.1" friction="0.0"/>
        <limit effort="30" velocity="1.0" lower="-0.523599" upper="0.872665" />
        <axis xyz="0 1 0" />
    </joint>
    <joint name="jRightAnkle_rotz" type="fixed">
        <origin xyz="0 0 0" rpy="0 0 0"/>
        <parent link="RightFoot_f2"/>
        <child link="RightFoot"/>
        <dynamics damping="0.1" friction="0.0"/>
        <limit effort="30" velocity="1.0" lower="-0.436332" upper="0.872665" />
        <axis xyz="0 0 1" />
    </joint>
	<joint name="jRightBallFoot_roty" type="fixed">
        <origin xyz="0.14456           0   -0.064752" rpy="0 0 0"/>
        <parent link="RightFoot"/>
        <child link="RightToe"/>
        <dynamics damping="0.1" friction="0.0"/>
        <limit effort="30" velocity="1.0" lower="-0.174533" upper="1.5708" />
        <axis xyz="0 1 0" />
    </joint>
	<!--Chain from (20) to (23)-->
	<joint name="jLeftHip_rotx" type="fixed">
        <origin xyz="0.000103    0.081614    0.001009" rpy="0 0 0"/>
        <parent link="Pelvis"/>
        <child link="LeftUpperLeg_f1"/>
        <dynamics damping="0.1" friction="0.0"/>
        <limit effort="30" velocity="1.0" lower="-0.523599" upper="0.785398" />
        <axis xyz="1 0 0" />
    </joint>
	<joint name="jLeftHip_roty" type="fixed">
        <origin xyz="0 0 0" rpy="0 0 0"/>
        <parent link="LeftUpperLeg_f1"/>
        <child link="LeftUpperLeg_f2"/>
        <dynamics damping="0.1" friction="0.0"/>
        <limit effort="30" velocity="1.0" lower="-2.0944" upper="0.261799" />
        <axis xyz="0 1 0" />
    </joint>
    <joint name="jLeftHip_rotz" type="fixed">
        <origin xyz="0 0 0" rpy="0 0 0"/>
        <parent link="LeftUpperLeg_f2"/>
        <child link="LeftUpperLeg"/>
        <dynamics damping="0.1" friction="0.0"/>
        <limit effort="30" velocity="1.0" lower="-0.785398" upper="0.785398" />
        <axis xyz="0 0 1" />
    </joint>
	<joint name="jLeftKnee_roty" type="fixed">
        <origin xyz="3.6e-05           0    -0.44898" rpy="0 0 0"/>
        <parent link="LeftUpperLeg"/>
        <child link="LeftLowerLeg_f1"/>
        <dynamics damping="0.1" friction="0.0"/>
        <limit effort="30" velocity="1.0" lower="0" upper="2.35619" />
        <axis xyz="0 1 0" />
    </joint>
    <joint name="jLeftKnee_rotz" type="fixed">
        <origin xyz="0 0 0" rpy="0 0 0"/>
        <parent link="LeftLowerLeg_f1"/>
        <child link="LeftLowerLeg"/>
        <dynamics damping="0.1" friction="0.0"/>
        <limit effort="30" velocity="1.0" lower="-0.523599" upper="0.698132" />
        <axis xyz="0 0 1" />
    </joint>
	<joint name="jLeftAnkle_rotx" type="fixed">
        <origin xyz="0.000205           0    -0.40608" rpy="0 0 0"/>
        <parent link="LeftLowerLeg"/>
        <child link="LeftFoot_f1"/>
        <dynamics damping="0.1" friction="0.0"/>
        <limit effort="30" velocity="1.0" lower="-0.785398" upper="0.610865" />
        <axis xyz="1 0 0" />
    </joint>
	<joint name="jLeftAnkle_roty" type="fixed">
        <origin xyz="0 0 0" rpy="0 0 0"/>
        <parent link="LeftFoot_f1"/>
        <child link="LeftFoot_f2"/>
        <dynamics damping="0.1" friction="0.0"/>
        <limit effort="30" velocity="1.0" lower="-0.523599" upper="0.872665" />
        <axis xyz="0 1 0" />
    </joint>
    <joint name="jLeftAnkle_rotz" type="fixed">
        <origin xyz="0 0 0" rpy="0 0 0"/>
        <parent link="LeftFoot_f2"/>
        <child link="LeftFoot"/>
        <dynamics damping="0.1" friction="0.0"/>
        <limit effort="30" velocity="1.0" lower="-0.872665" upper="0.436332" />
        <axis xyz="0 0 1" />
    </joint>
	<joint name="jLeftBallFoot_roty" type="fixed">
        <origin xyz="0.14456           0   -0.064752" rpy="0 0 0"/>
        <parent link="LeftFoot"/>
        <child link="LeftToe"/>
        <dynamics damping="0.1" friction="0.0"/>
        <limit effort="30" velocity="1.0" lower="-0.174533" upper="1.5708" />
        <axis xyz="0 1 0" />
    </joint>

</robot>
